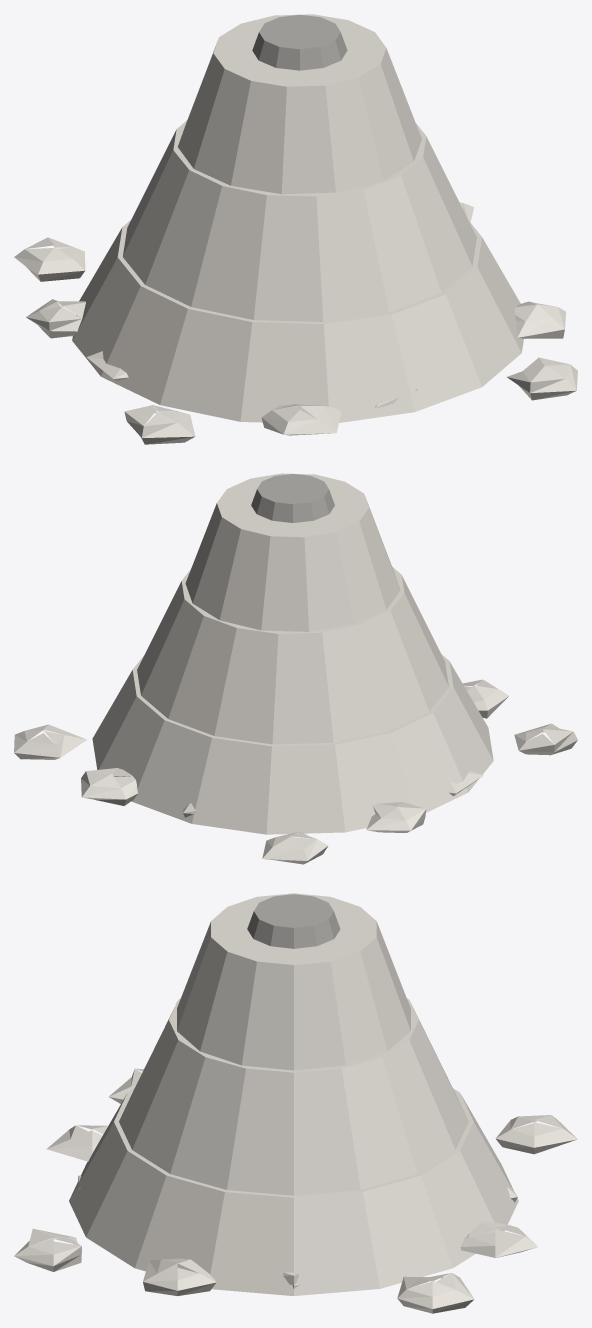
Rendered from geyser.glb.
3 renders of one model, top to bottom at view 1: azimuth 30°, elevation 25°; view 2: azimuth 150°, elevation 25°; view 3: azimuth 270°, elevation 25°, orthographic. The views are drawn at different scales.
Visible parts, largest first — view 1: volcano-and-lava-fields-geyser-cone; view 2: volcano-and-lava-fields-geyser-cone; view 3: volcano-and-lava-fields-geyser-cone.
Part boxes in pixels (x1,y1,x2,y2): volcano-and-lava-fields-geyser-cone: (14, 14, 577, 444); volcano-and-lava-fields-geyser-cone: (14, 473, 577, 864); volcano-and-lava-fields-geyser-cone: (14, 893, 577, 1313).
Bounding box in the file's own units: 2.2 × 1.3 × 2.26.
2 materials, 1 textured.
